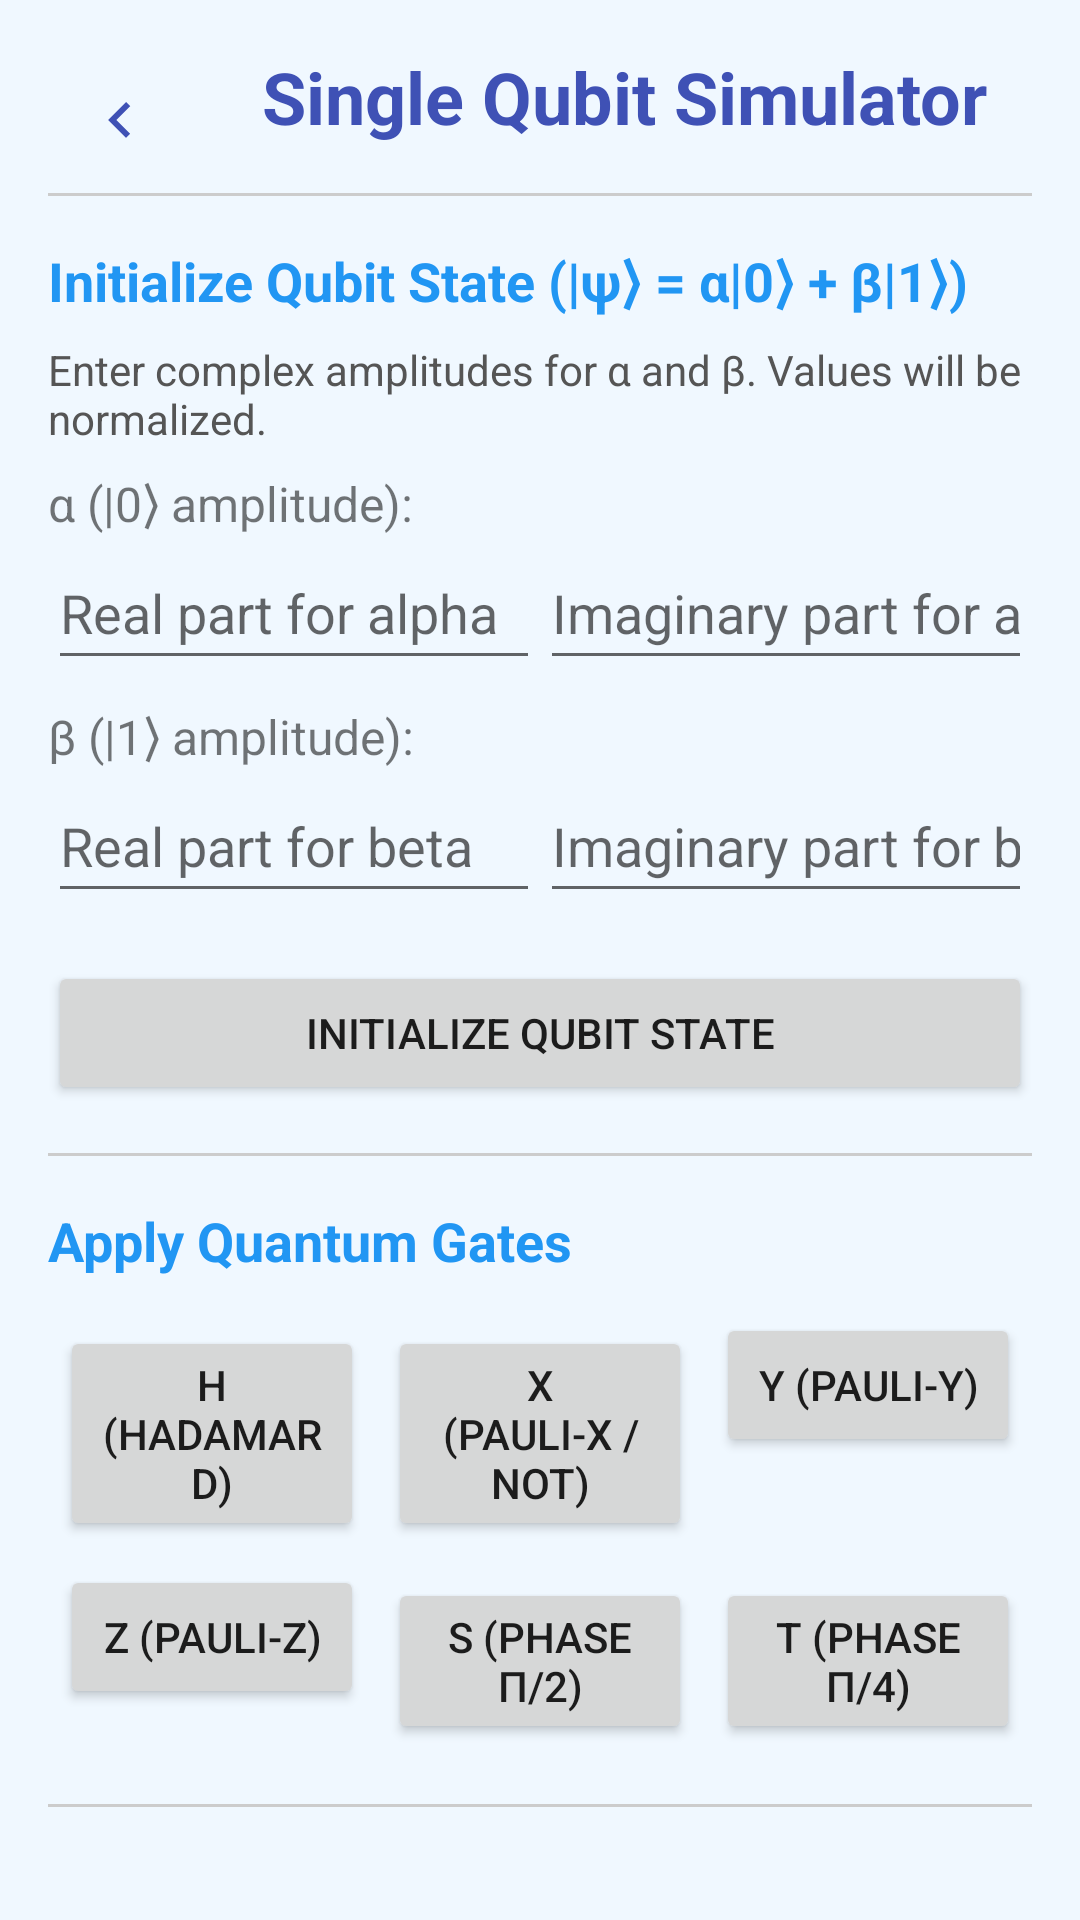

Screen size 1080 × 1920. Icon name, then its center in pixels as (x,y):
Go back to previous screen: (119,120)
